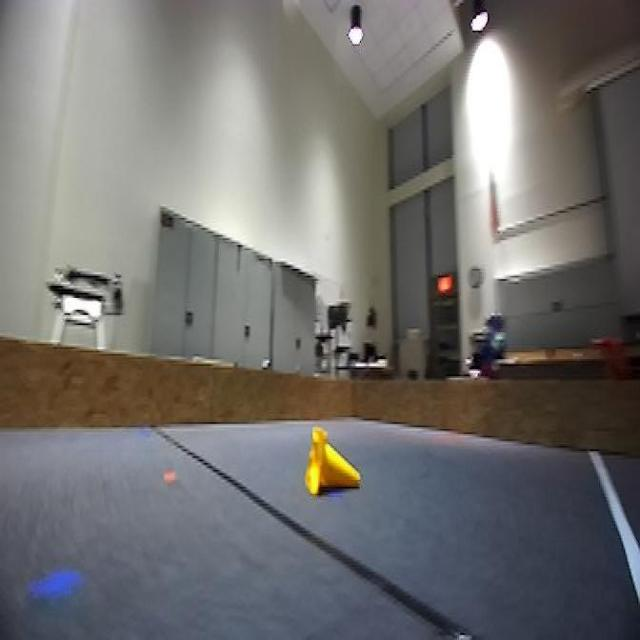frc_cone: (304, 427, 357, 499)
